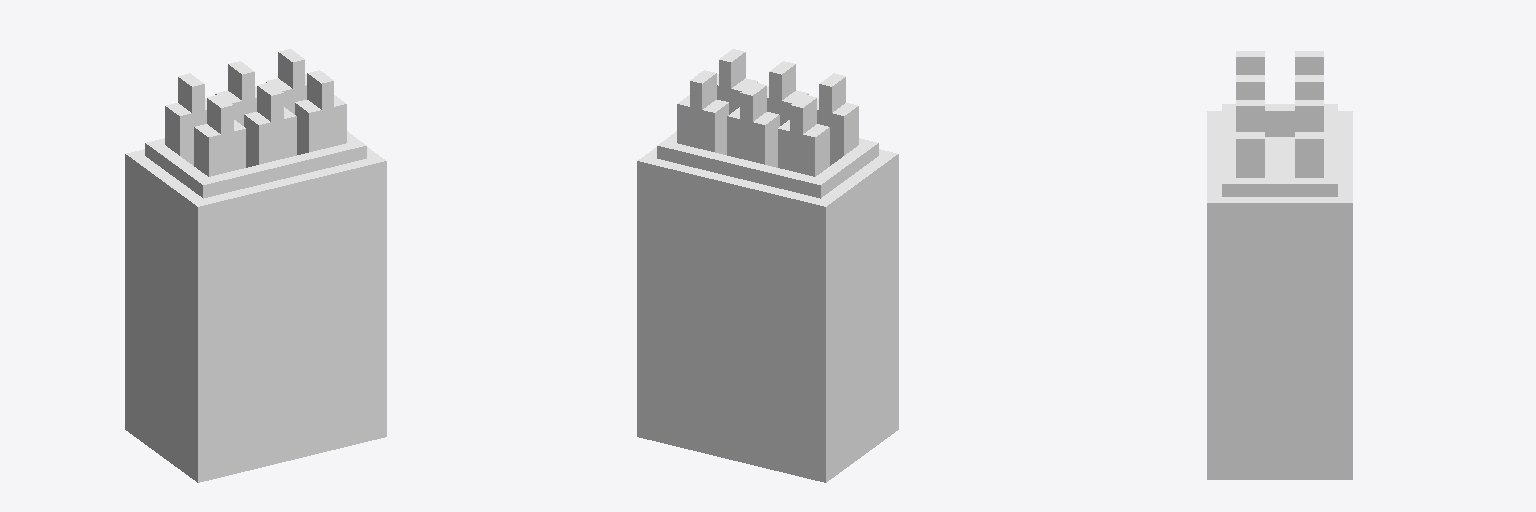
Rendered from Munitions(voxel).obj.
3 views of the same model, side by side, from view 1: azimuth 30°, elevation 25°; view 2: azimuth 150°, elevation 25°; view 3: azimuth 270°, elevation 25° (orthographic).
Parts seen in each view (by area): view 1: object 1; view 2: object 1; view 3: object 1.
Part boxes in pixels (bbox=[...]): object 1: bbox=[125, 49, 386, 482]; object 1: bbox=[637, 49, 898, 482]; object 1: bbox=[1207, 51, 1352, 479].
Bounding box in the file's own units: 1.5 × 2.7 × 1.